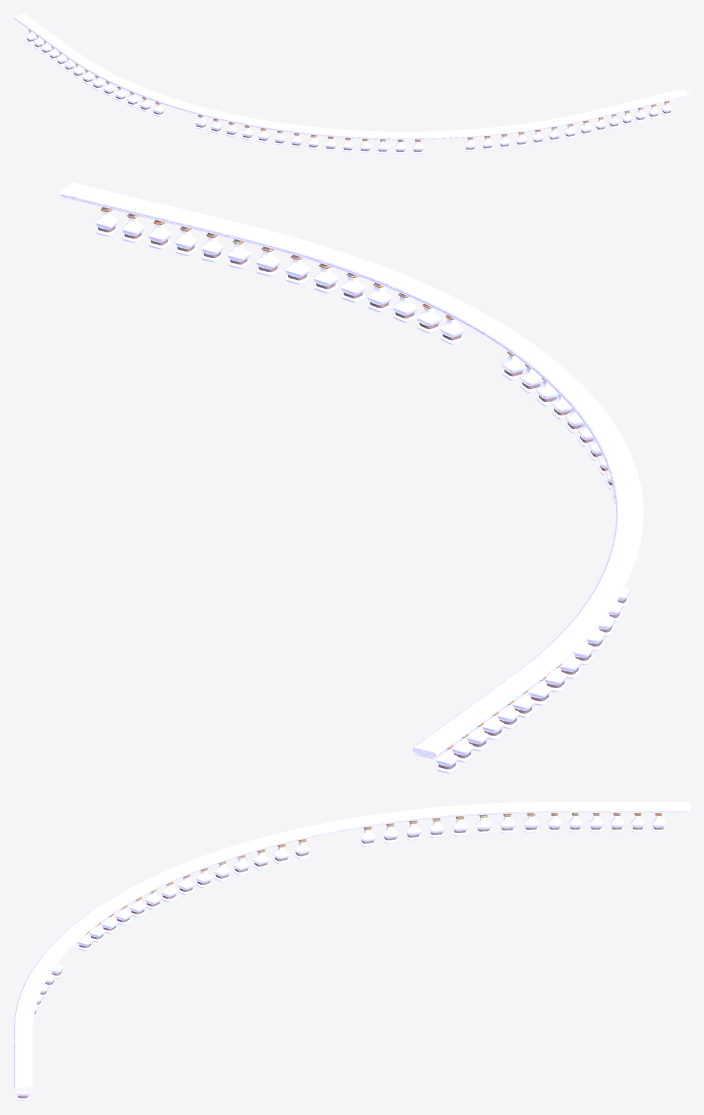
File: banister_corner_large_SM.fbx
3 renders of one model, top to bottom at view 1: azimuth 30°, elevation 25°; view 2: azimuth 150°, elevation 25°; view 3: azimuth 270°, elevation 25°, orthographic. The views are drawn at different scales.
Visible parts, largest first — view 1: banister_corner_large_SM_LOD0; view 2: banister_corner_large_SM_LOD0; view 3: banister_corner_large_SM_LOD0.
Boxes of the visible parts, <box> form: banister_corner_large_SM_LOD0: <box>14,14,689,153</box>; banister_corner_large_SM_LOD0: <box>60,182,643,773</box>; banister_corner_large_SM_LOD0: <box>14,802,689,1100</box>.
Bounding box in the file's own units: 2077 × 2077 × 82.81.
Materials: 3 (2 with a texture image).
